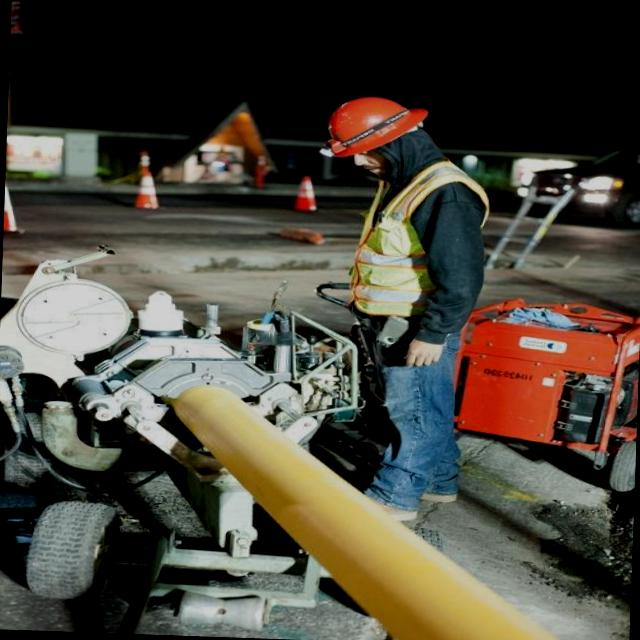helmet: (305, 92, 428, 162)
vest: (356, 165, 475, 328)
